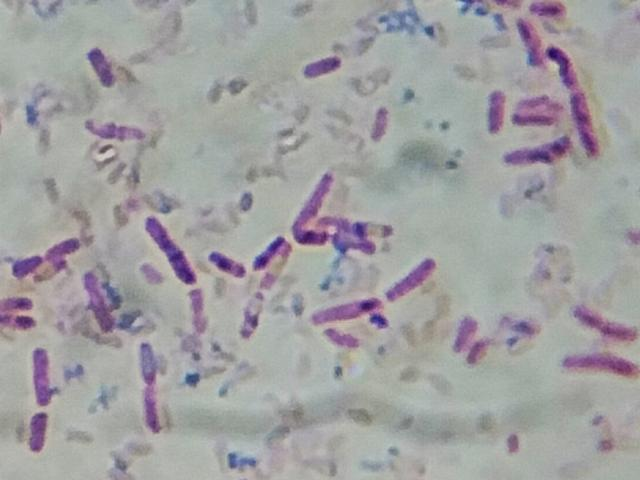E. coli: (145, 216, 190, 282), (572, 300, 640, 343), (383, 260, 443, 307), (558, 347, 638, 382), (570, 86, 608, 157), (88, 113, 163, 147), (499, 137, 565, 173), (83, 269, 119, 331), (83, 42, 121, 94), (322, 212, 394, 239), (289, 175, 335, 217), (311, 297, 385, 323), (26, 343, 57, 403), (139, 379, 172, 433), (305, 229, 373, 254), (512, 22, 542, 73), (22, 406, 52, 455), (238, 290, 266, 341), (366, 100, 397, 146), (248, 234, 289, 267), (305, 53, 346, 85), (206, 245, 242, 277), (182, 287, 210, 328), (319, 330, 363, 354), (133, 340, 159, 379), (483, 85, 504, 128), (465, 336, 494, 367), (453, 310, 476, 349), (551, 45, 577, 79), (518, 90, 558, 111), (1, 310, 35, 334), (530, 0, 570, 18), (48, 239, 84, 258), (509, 112, 552, 127), (0, 294, 32, 313), (16, 252, 43, 274)
